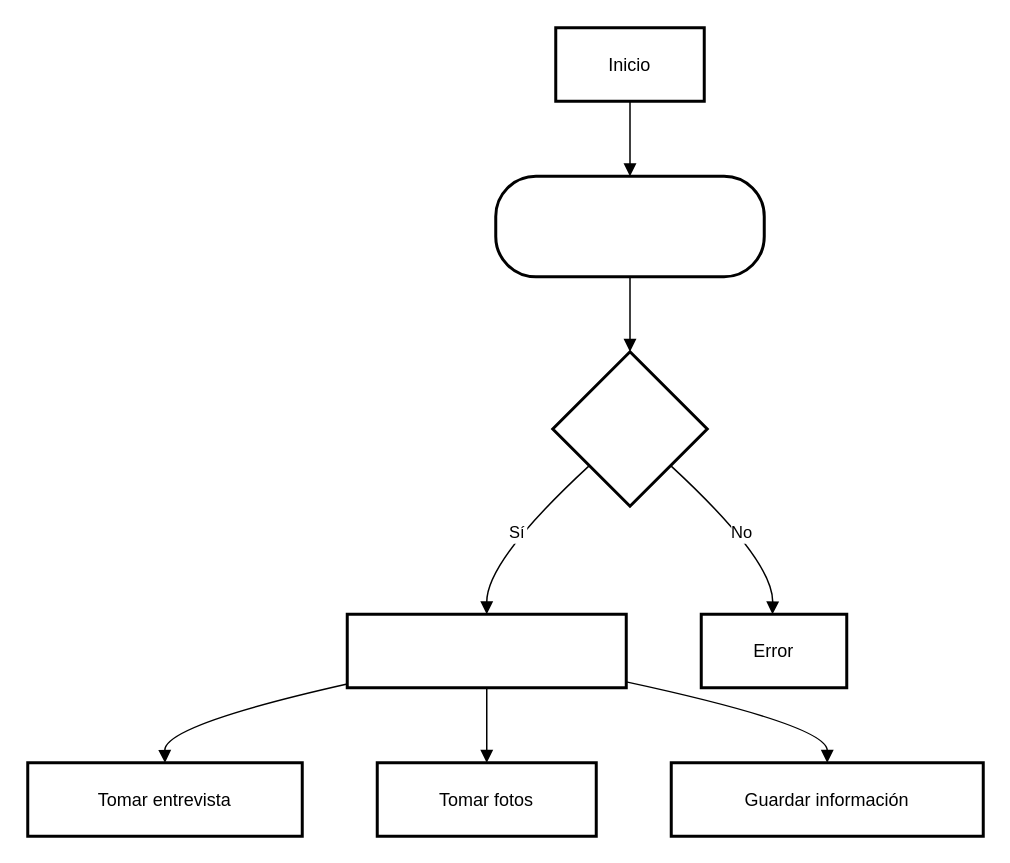
This 1010x863 diagram has some shape labels left out. The centre of each missing label's shape, as x and y in pixels:
"Acceso al modulo" belongs at pixel 486 650.
"Módulo Entrevistas a personas de la calle" belongs at pixel 629 226.
"Usuario" belongs at pixel 629 428.
